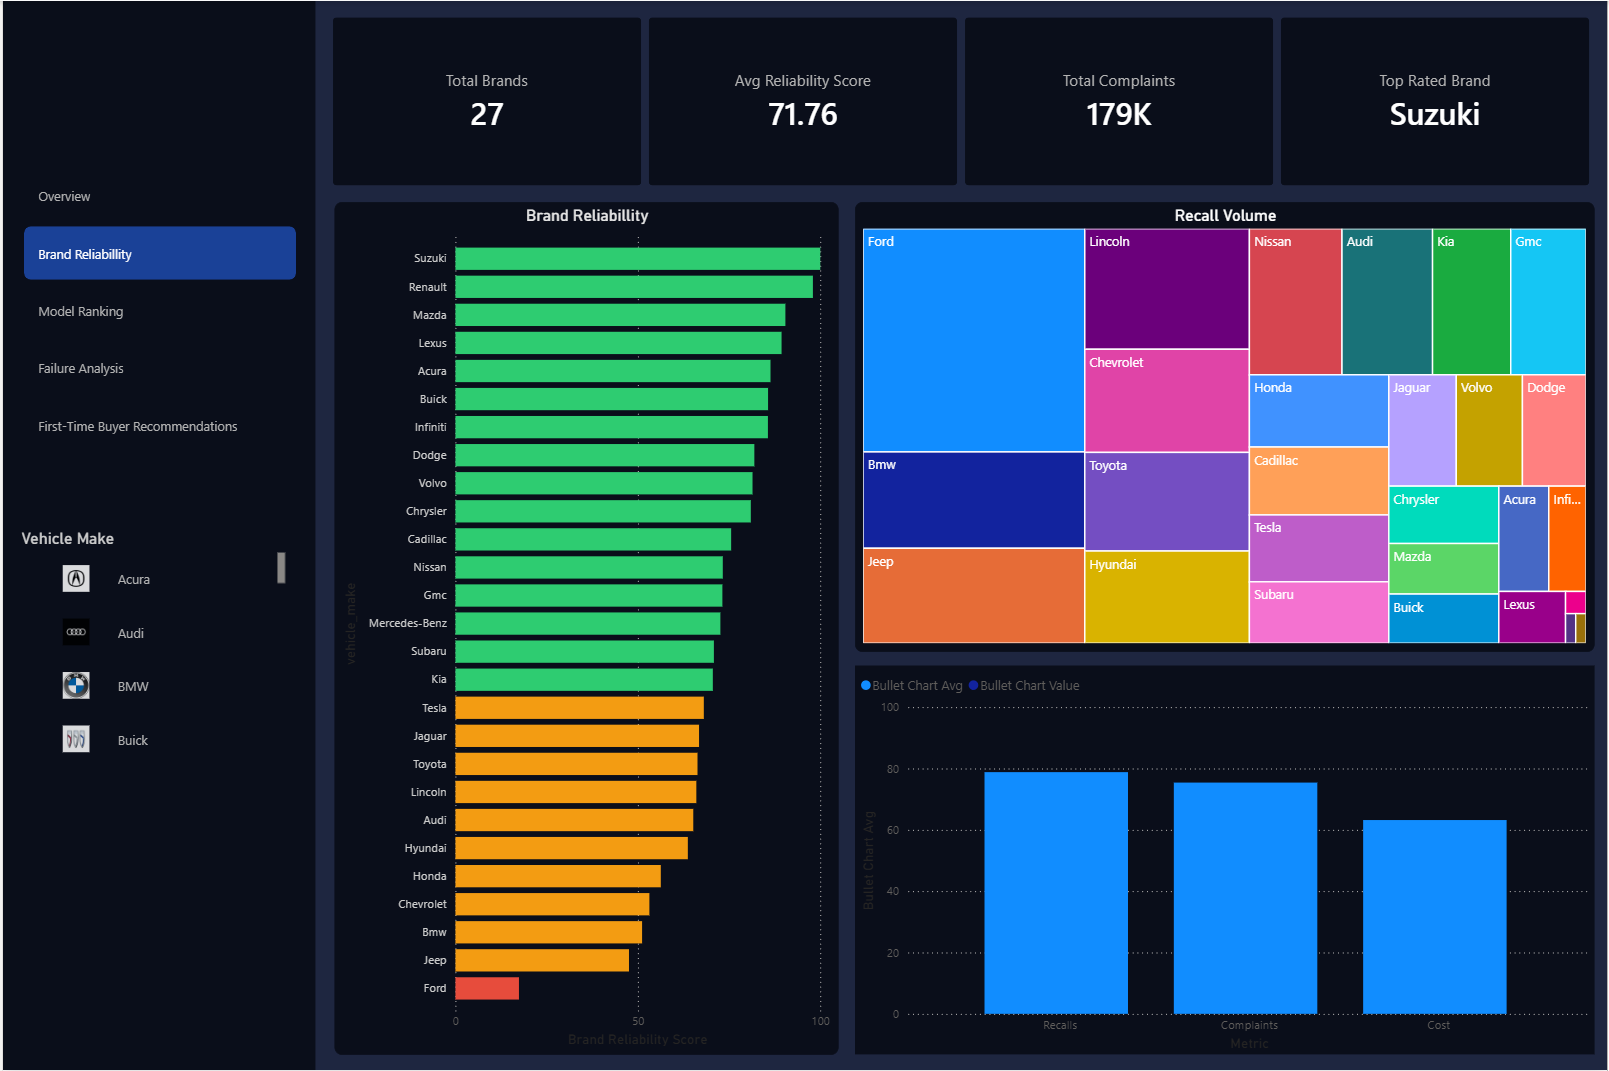

Layout of this report page (visuals, bound fields, positions):
{"tool":"powerbi","page":{"name":"Brand Reliabillity","canvas":[1580,1280],"ordinal":1},"visuals":[{"type":"shape","box":[0,0,326.9,1279.7],"z":0},{"type":"cardVisual","fields":{"Data":["gold_dim_make.Total Brands","gold_dim_make.Avg Reliability_Score","gold_dim_make.Total Complaints","gold_dim_make.Top Rated Brand"]},"box":[327.5,0,1253,248.2],"z":1000},{"type":"pageNavigator","box":[21.9,175.4,285,301],"z":2000},{"type":"advancedSlicerVisual","fields":{"Values":["silver_logos.vehicle_make"]},"box":[13.8,553.3,286.1,255.1],"z":3000},{"type":"clusteredBarChart","fields":{"Category":["gold_dim_make.vehicle_make"],"Y":["gold_dim_make.Brand Reliability Score"]},"box":[346.4,248.2,527.4,486],"z":4000},{"type":"treemap","fields":{"Group":["gold_dim_make.vehicle_make"],"Values":["gold_dim_make.Total Recalls"]},"box":[891.1,248.2,677.4,486],"z":5000},{"type":"advancedSlicerVisual","fields":{"Values":["silver_logos.logo_url"]},"box":[346.4,756.6,525.7,505],"z":6000},{"type":"radarChartE89D21F3E4E64221B79113B5015EA81B","fields":{"category":["Radar Axis.Metric"],"measure":["gold_dim_make.Radar Value"],"legend":["gold_dim_make.vehicle_make"]},"box":[891.1,756.6,677.4,505],"z":7000}]}

Visuals, with their boxes on the page's 1580x1280 design canvas (x1, y1, x2, y2). These are canvas units, not pixel positions in the 1609x1071 screenshot, which may show the page scaled, cropped or inside an application window:
shape: <bbox>0, 0, 327, 1280</bbox>
cardVisual - gold_dim_make.Total Brands x gold_dim_make.Avg Reliability_Score: <bbox>328, 0, 1580, 248</bbox>
pageNavigator: <bbox>22, 175, 307, 476</bbox>
advancedSlicerVisual - silver_logos.vehicle_make: <bbox>14, 553, 300, 808</bbox>
clusteredBarChart - gold_dim_make.vehicle_make x gold_dim_make.Brand Reliability Score: <bbox>346, 248, 874, 734</bbox>
treemap - gold_dim_make.vehicle_make x gold_dim_make.Total Recalls: <bbox>891, 248, 1568, 734</bbox>
advancedSlicerVisual - silver_logos.logo_url: <bbox>346, 757, 872, 1262</bbox>
radarChartE89D21F3E4E64221B79113B5015EA81B - Radar Axis.Metric x gold_dim_make.Radar Value: <bbox>891, 757, 1568, 1262</bbox>
